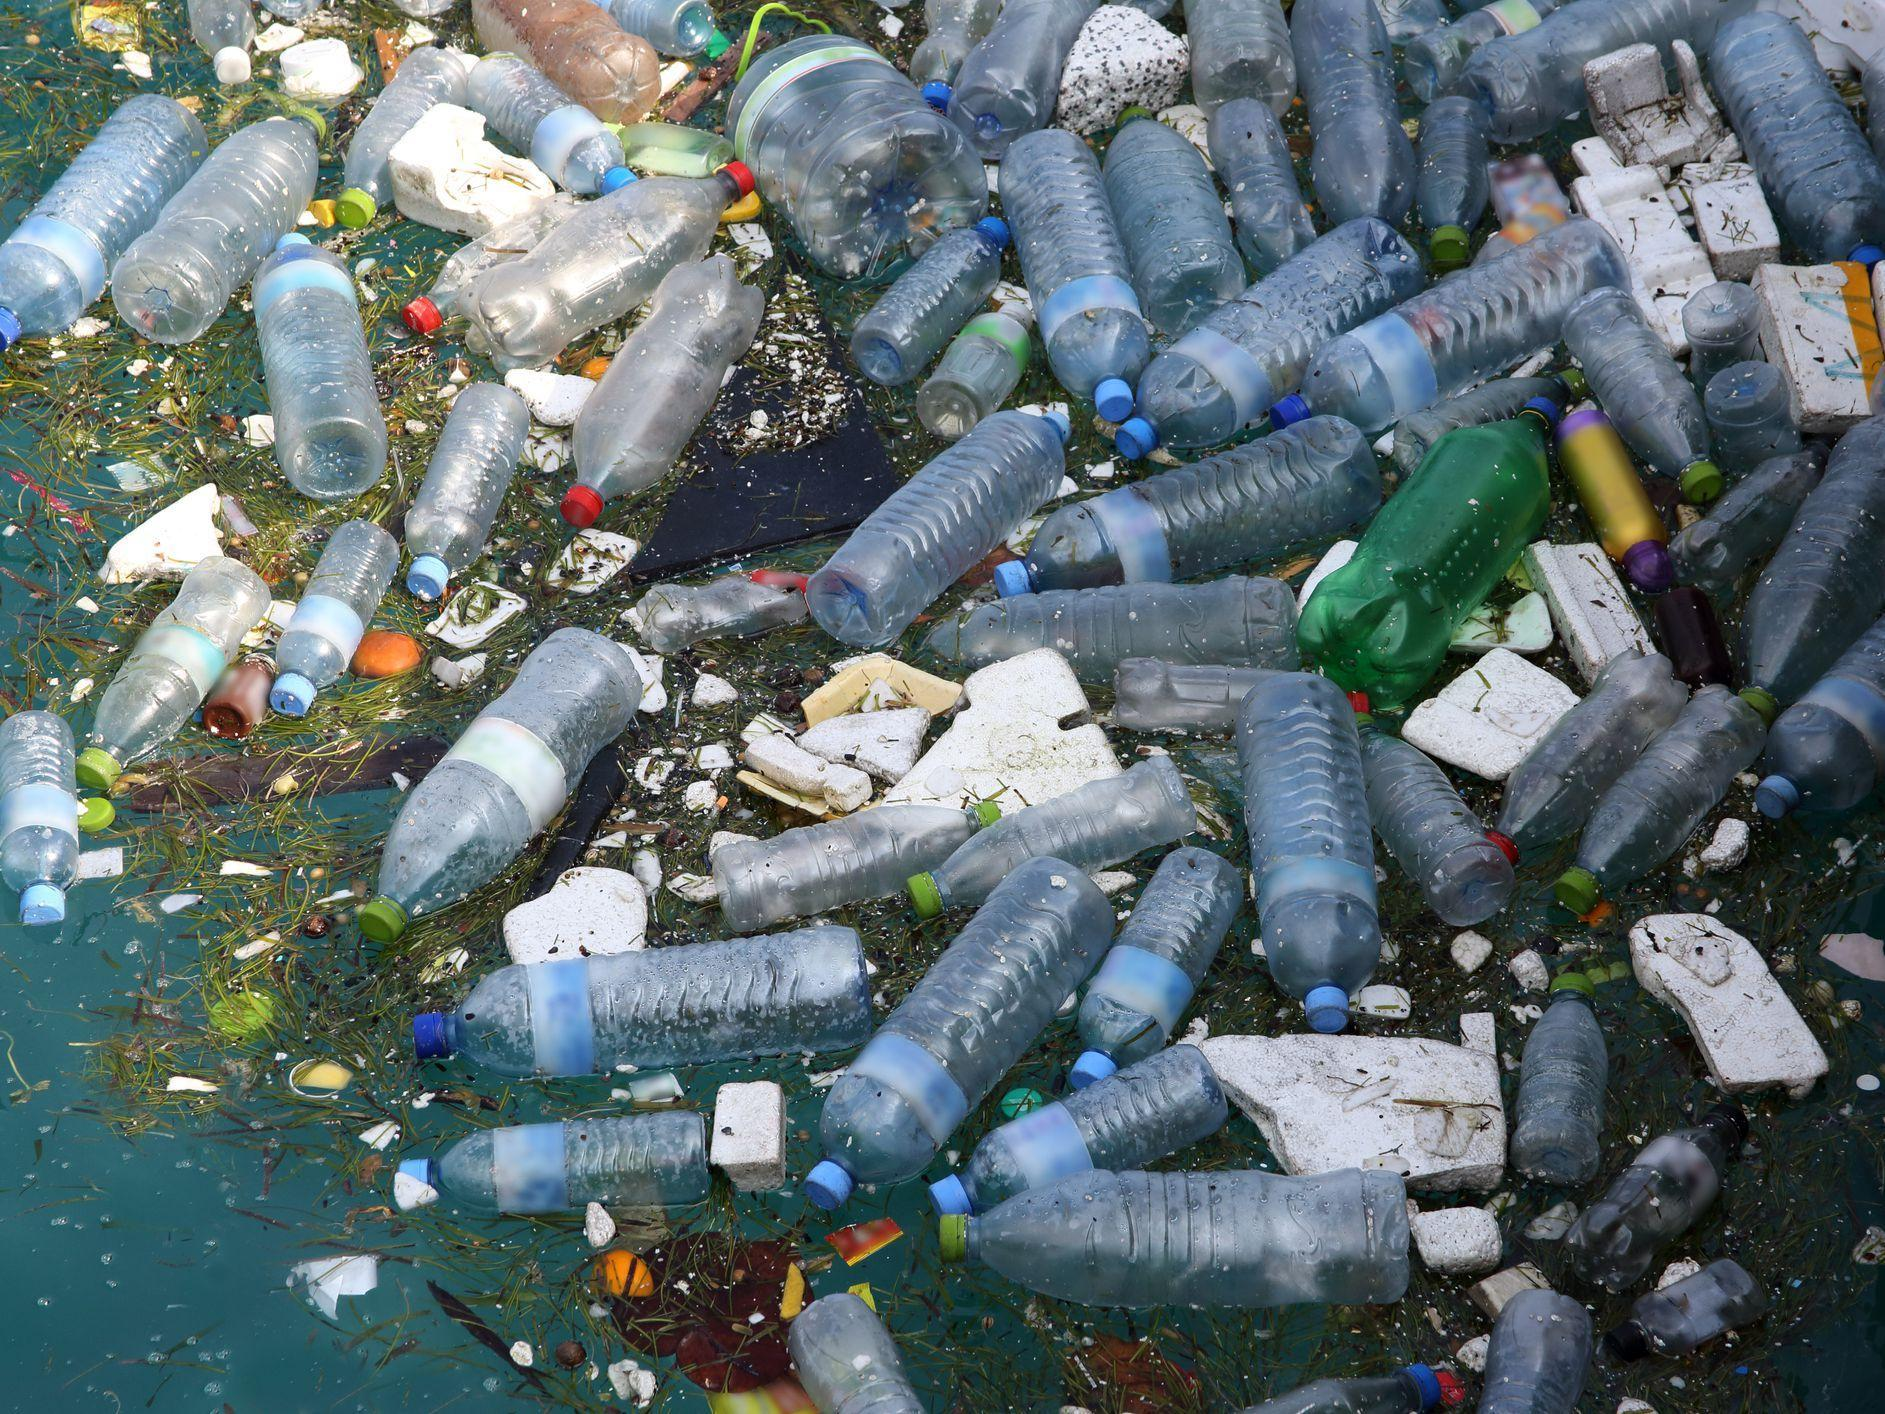bottle: (786, 858, 1123, 1209), (349, 622, 646, 948), (1297, 389, 1576, 701), (703, 3, 995, 291), (960, 400, 1325, 619), (1110, 223, 1426, 465), (401, 928, 882, 1084), (1266, 230, 1622, 431), (799, 400, 1072, 661), (940, 1169, 1413, 1316), (452, 159, 756, 374), (553, 252, 768, 533), (0, 86, 215, 361), (101, 107, 333, 355), (936, 1028, 1200, 1237), (62, 548, 273, 804), (897, 749, 1197, 918), (1702, 0, 1885, 267), (1242, 671, 1371, 1043), (995, 129, 1157, 420), (1485, 643, 1692, 869), (1064, 844, 1243, 1096), (1561, 679, 1751, 906), (1748, 411, 1885, 717), (695, 796, 998, 925), (1558, 276, 1729, 505), (247, 238, 391, 505), (1558, 1098, 1756, 1292), (395, 1104, 725, 1219), (1465, 0, 1726, 143), (1102, 102, 1254, 331), (260, 514, 401, 746), (397, 376, 530, 607), (844, 209, 1009, 397), (1288, 0, 1422, 227), (1754, 618, 1885, 844), (1542, 404, 1674, 616), (331, 37, 466, 233), (469, 55, 649, 202), (1365, 729, 1502, 922), (1508, 962, 1610, 1197), (0, 691, 92, 951), (945, 0, 1083, 157), (460, 0, 670, 102), (1670, 459, 1820, 602), (400, 205, 548, 340), (783, 1288, 934, 1414), (914, 299, 1035, 452), (625, 564, 829, 655), (1212, 91, 1307, 269), (1612, 1267, 1768, 1374), (1104, 643, 1283, 731), (1169, 0, 1297, 123), (1233, 1346, 1451, 1414), (1484, 1282, 1595, 1414), (1399, 0, 1554, 86), (1427, 61, 1494, 245), (1702, 362, 1800, 457), (1676, 273, 1771, 361), (169, 0, 267, 83), (917, 4, 991, 100), (622, 0, 732, 45), (169, 1074, 171, 1203)
